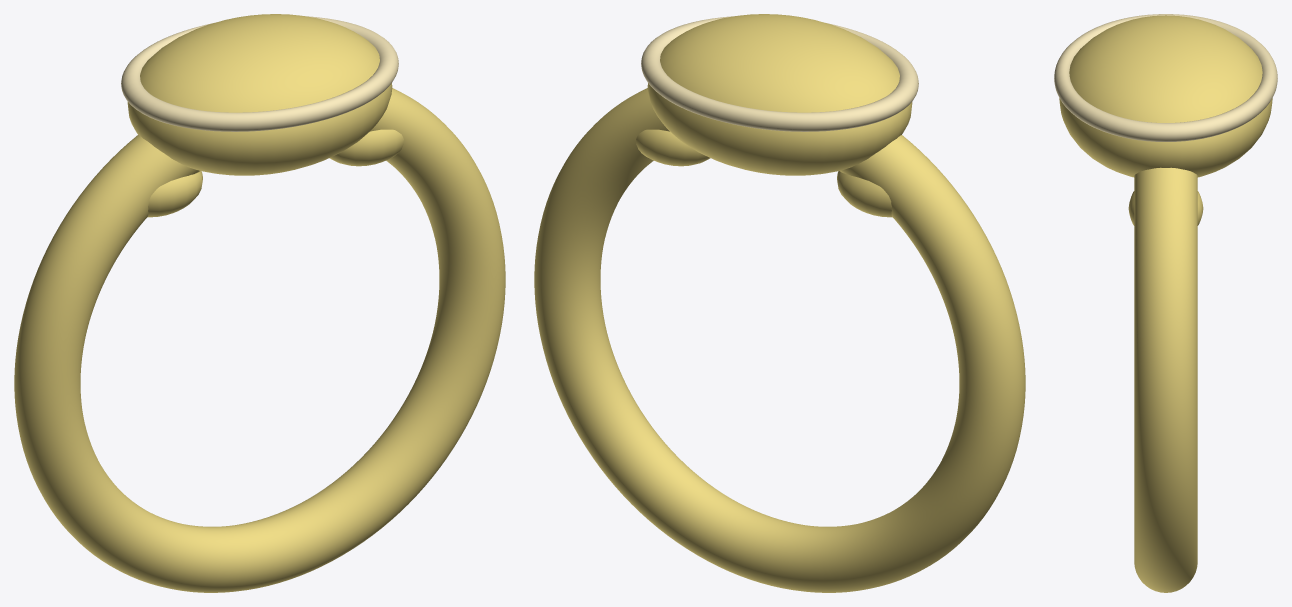
Rendered from ln-signet-ring.glb.
The picture shows the model from 3 angles, left to right: view 1: azimuth 30°, elevation 25°; view 2: azimuth 150°, elevation 25°; view 3: azimuth 270°, elevation 25°; orthographic projection. The views are drawn at different scales.
Parts seen in each view (by area): view 1: ln-signet-ring; view 2: ln-signet-ring; view 3: ln-signet-ring.
Part boxes in pixels (left/top/right/bottom): ln-signet-ring: left=14, top=14, right=505, bottom=592; ln-signet-ring: left=534, top=14, right=1025, bottom=592; ln-signet-ring: left=1054, top=14, right=1277, bottom=592.
Bounding box in the file's own units: 3.11 × 3.4 × 1.3.
